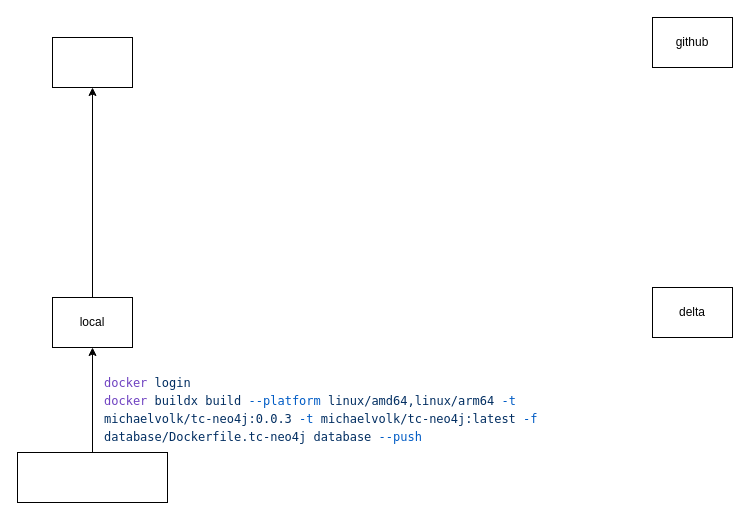
Some shapes in this 750 by 520 pixel diagram are drawn without their labels. The centre of each missing label's shape, as x and y in pixels:
docker hub: the point at 92,62
Dockerfile.tc-neo4j: the point at 92,477
